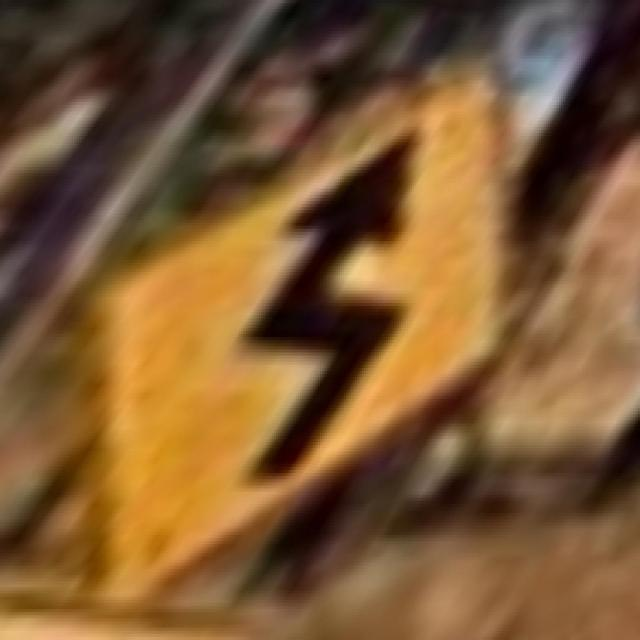Tikungan Ganda Pertama Ke Kiri: (81, 62, 500, 612)
